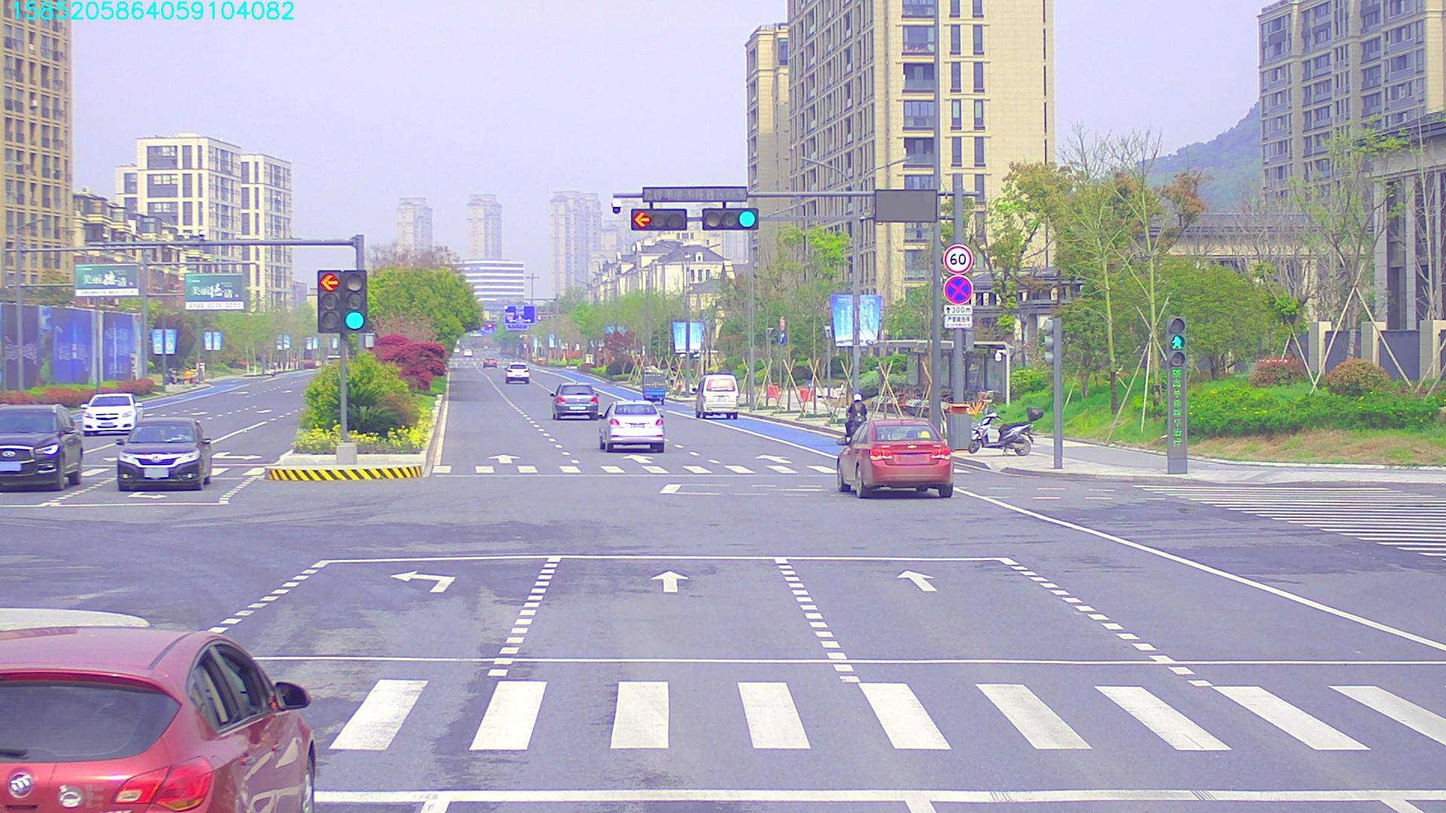green: (705, 205, 761, 228)
red: (623, 206, 680, 226)
